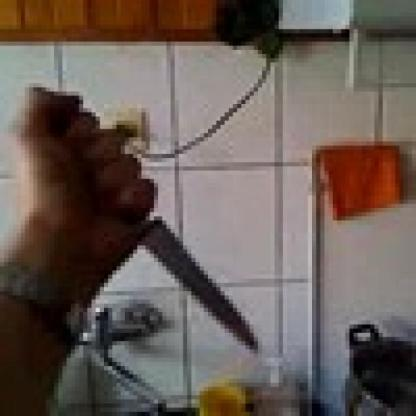Knife: (46, 91, 258, 350)
